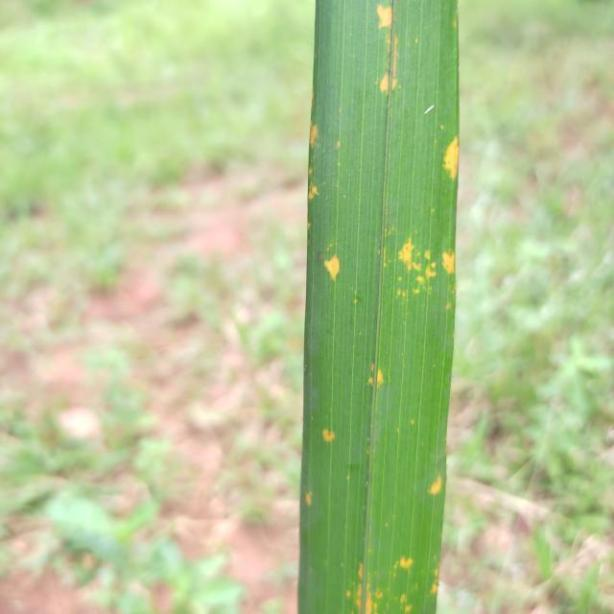Kalium: (301, 0, 464, 614)
